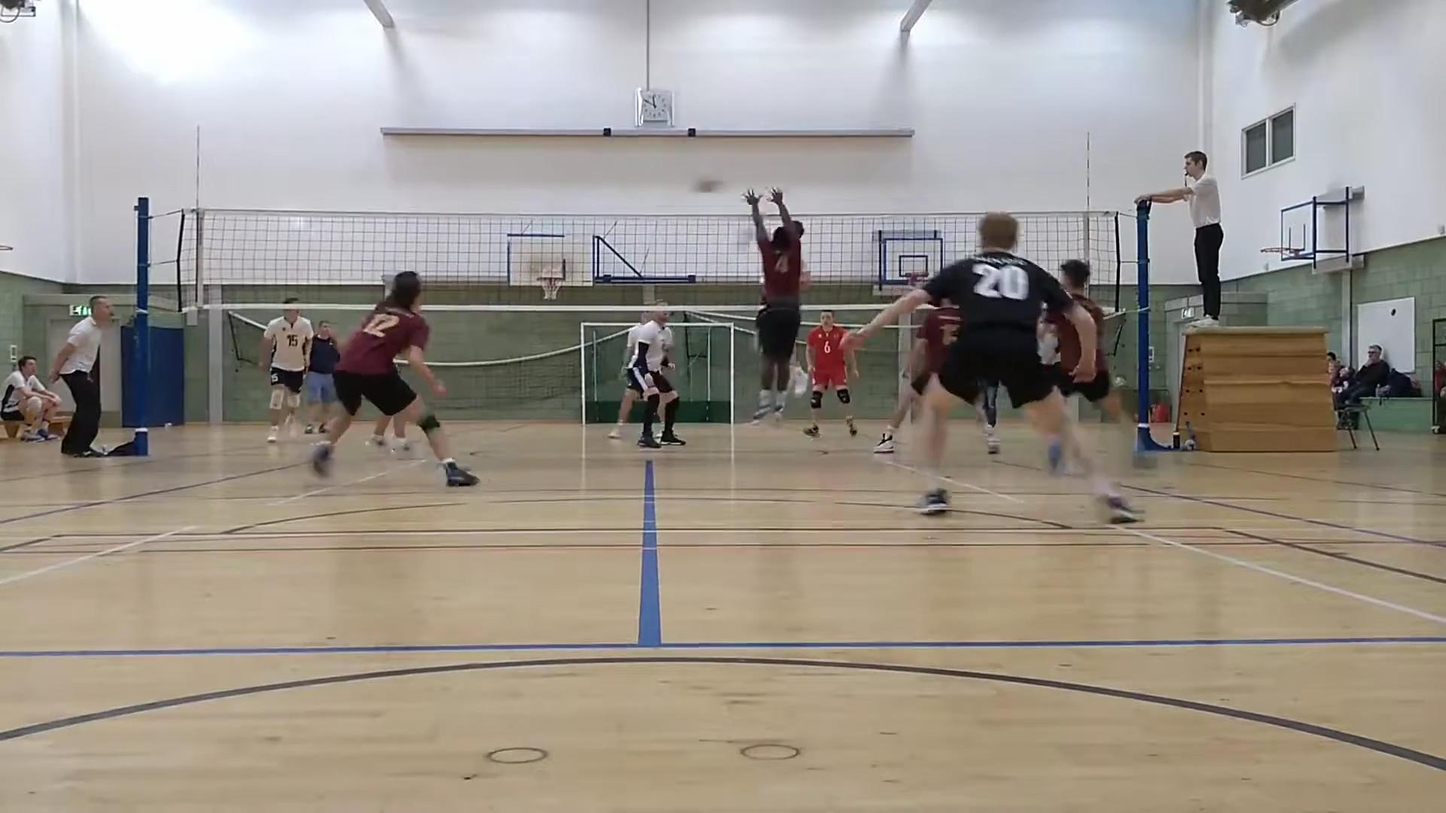muro: (744, 189, 816, 427)
